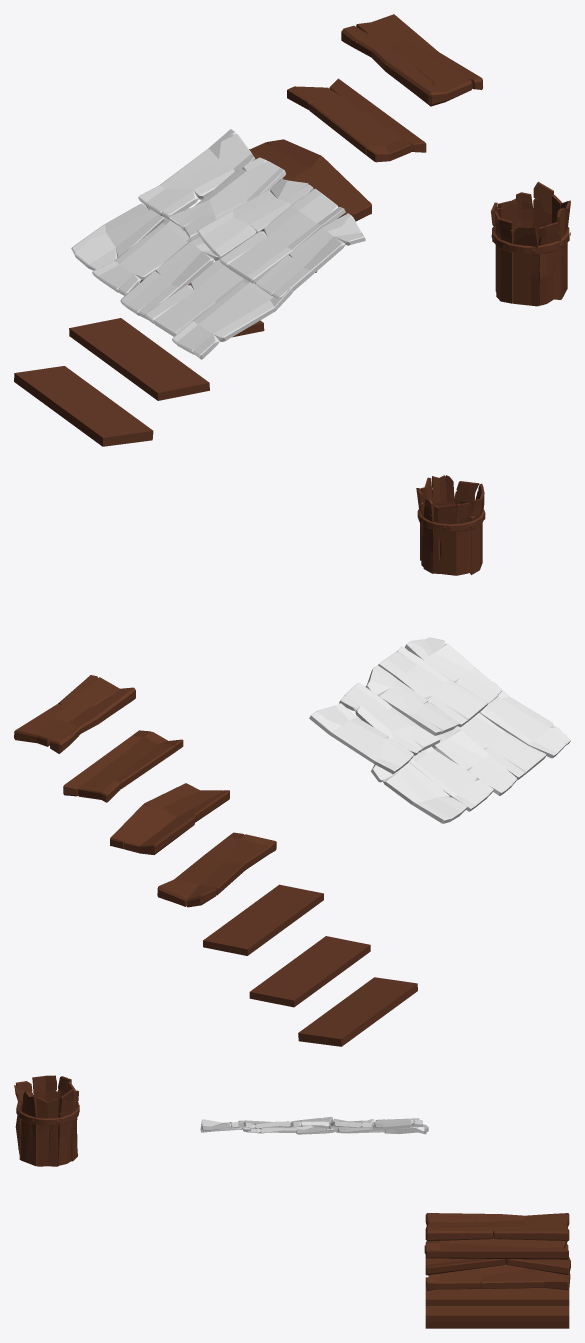
File: SM_WoodForMikey.fbx
3 renders of one model, top to bottom at view 1: azimuth 30°, elevation 25°; view 2: azimuth 150°, elevation 25°; view 3: azimuth 270°, elevation 25°, orthographic. The views are drawn at different scales.
Visible parts, largest first — view 1: Stairs, Barrel, Cube.076, Cube.070, Cube.073, Cube.075, Cube.074, Cube.077, Cube.068, Cube.072, Cube.071, Cube.069; view 2: Stairs, Barrel, Cube.076, Cube.070, Cube.077, Cube.073, Cube.069, Cube.075, Cube.074, Cube.071, Cube.072, Cube.068; view 3: Stairs, Barrel, Cube.070, Cube.075, Cube.077, Cube.076, Cube.074.
Part boxes in pixels (x1,y1,x2,y2): Stairs: (14,14,482,446); Barrel: (491,181,570,306); Cube.076: (219,188,345,283); Cube.070: (138,129,255,219); Cube.073: (172,280,292,359); Cube.075: (197,178,313,258); Cube.074: (255,213,365,298); Cube.077: (168,157,285,240); Cube.068: (92,208,190,295); Cube.072: (144,259,245,336); Cube.071: (120,237,219,319); Cube.069: (71,203,166,270); Stairs: (14,675,417,1046); Barrel: (416,475,485,575); Cube.076: (378,646,488,727); Cube.070: (309,703,413,774); Cube.077: (339,683,440,755); Cube.073: (479,681,570,758); Cube.069: (371,761,467,823); Cube.075: (365,665,459,735); Cube.074: (404,637,501,703); Cube.071: (432,726,517,795); Cube.072: (458,712,546,780); Cube.068: (409,746,493,811); Stairs: (424,1213,570,1328); Barrel: (14,1075,79,1166); Cube.070: (373,1118,423,1130); Cube.075: (289,1116,332,1129); Cube.077: (330,1118,374,1129); Cube.076: (238,1120,290,1128); Cube.074: (201,1119,243,1130).
Size of the model in its own units: 1.43 by 1.21 by 2.
